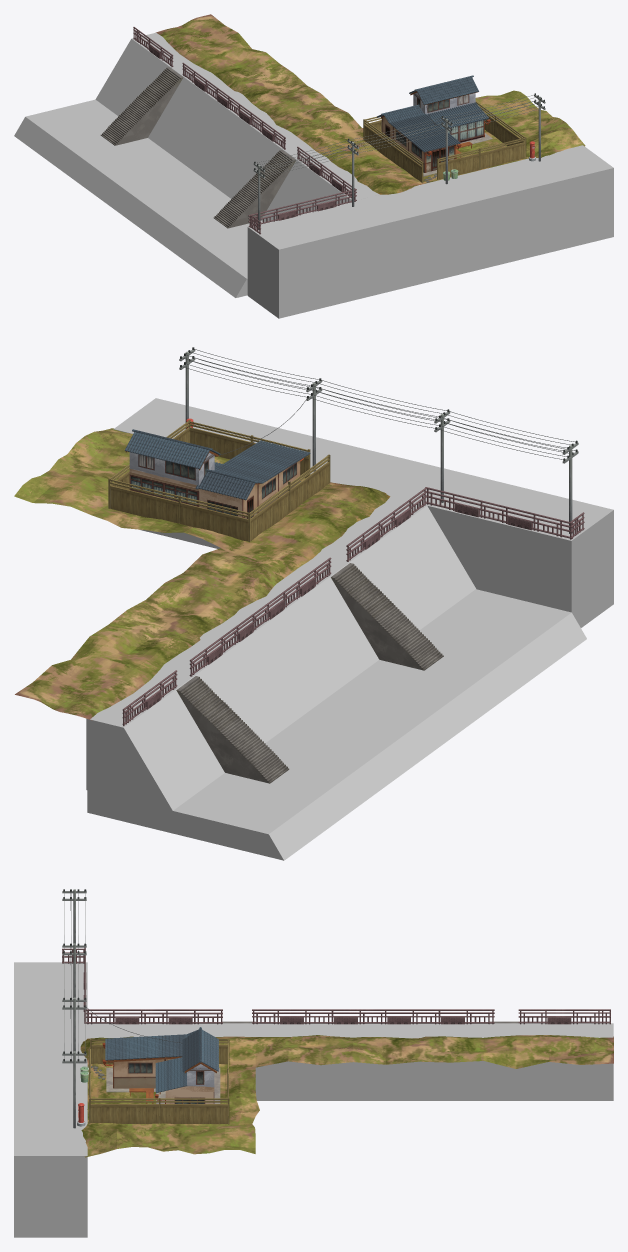
The model's file is countryside02.fbx.
The picture shows the model from 3 angles, top to bottom: view 1: azimuth 30°, elevation 25°; view 2: azimuth 150°, elevation 25°; view 3: azimuth 270°, elevation 25°; orthographic projection. The views are drawn at different scales.
Visible parts, largest first — view 1: Cube.124, Cube.122, Cube.132, Cube.001, Cube.012, Cube, Cube.137, Circle.018, Cylinder.097, Cube.219, Cylinder.227, Circle.113 (+6 smaller); view 2: Cube.122, Cube.132, Cube.001, Cube.124, Cube.012, Cube, Cube.137, Cube.010, Cylinder.097, Circle.018, Cylinder.227, Circle.113 (+5 smaller); view 3: Cube.132, Cube.124, Cube.001, Cylinder.097, Cube.015, Cube.137, Circle.018, Cylinder.195, Circle.113, Cylinder.062, Circle.138, Cube.019 (+1 smaller).
Boxes of the visible parts, x1,y1,x2,y2 form: Cube.124: (247, 145, 613, 318); Cube.122: (14, 99, 262, 297); Cube.132: (95, 32, 379, 221); Cube.001: (156, 14, 585, 194); Cube.012: (100, 67, 183, 145); Cube: (213, 150, 295, 228); Cube.137: (381, 92, 484, 172); Circle.018: (389, 113, 460, 152); Cylinder.097: (182, 62, 285, 149); Cube.219: (439, 142, 524, 179); Cylinder.227: (248, 189, 356, 226); Circle.113: (409, 75, 478, 104); Cube.122: (87, 589, 586, 860); Cube.132: (86, 496, 475, 810); Cube.001: (14, 428, 390, 720); Cube.124: (113, 398, 613, 627); Cube.012: (176, 676, 289, 783); Cube: (331, 563, 443, 670); Cube.137: (129, 452, 300, 518); Cube.010: (110, 485, 248, 541); Cylinder.097: (189, 557, 331, 676); Circle.018: (214, 440, 310, 482); Cylinder.227: (425, 487, 573, 538); Circle.113: (124, 429, 220, 469); Cube.132: (87, 1023, 613, 1100); Cube.124: (14, 962, 87, 1237); Cube.001: (80, 1035, 613, 1157); Cylinder.097: (252, 1009, 494, 1024); Cube.015: (90, 1104, 227, 1123); Cube.137: (113, 1037, 214, 1103); Circle.018: (105, 1034, 186, 1060); Cylinder.195: (85, 1009, 222, 1024); Circle.113: (182, 1027, 218, 1072); Cylinder.062: (518, 1009, 610, 1024); Circle.138: (155, 1057, 187, 1092); Cube.019: (106, 1067, 220, 1103).
Bounding box in the file's own units: 1781 × 650 × 2239.
